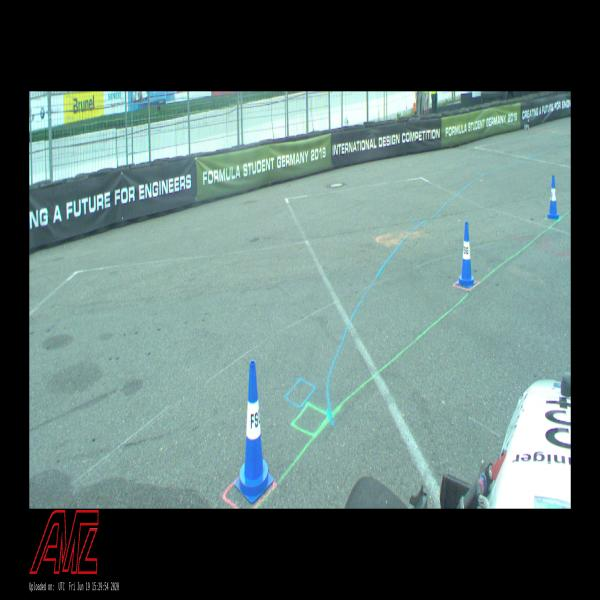blue_cone: (235, 360, 273, 502), (456, 222, 476, 287), (547, 176, 559, 219)
